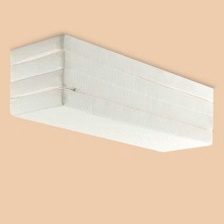foam_box: (5, 30, 219, 156)
